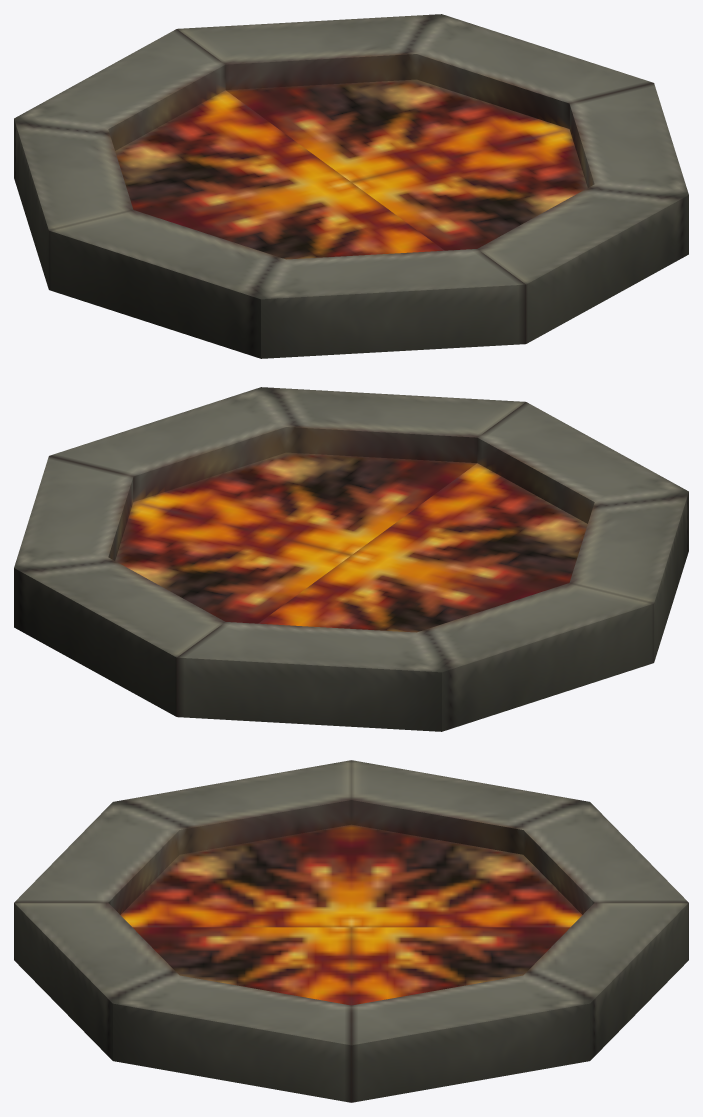
Rendered from GZ_Xsc_houpeng_01_D.FBX.
3 renders of one model, top to bottom at view 1: azimuth 30°, elevation 25°; view 2: azimuth 150°, elevation 25°; view 3: azimuth 270°, elevation 25°, orthographic. The views are drawn at different scales.
Visible parts, largest first — view 1: GZ_Xsc_houpeng_01_D; view 2: GZ_Xsc_houpeng_01_D; view 3: GZ_Xsc_houpeng_01_D.
Part boxes in pixels (left/top/right/bottom): GZ_Xsc_houpeng_01_D: left=14, top=14, right=688, bottom=358; GZ_Xsc_houpeng_01_D: left=14, top=387, right=688, bottom=731; GZ_Xsc_houpeng_01_D: left=14, top=760, right=688, bottom=1102.
Size of the model in its own units: 2.78 by 0.2616 by 2.78.
